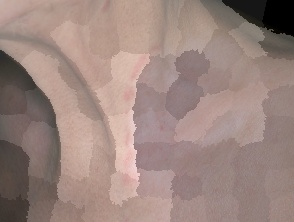vitiligo: (108, 0, 294, 222)
